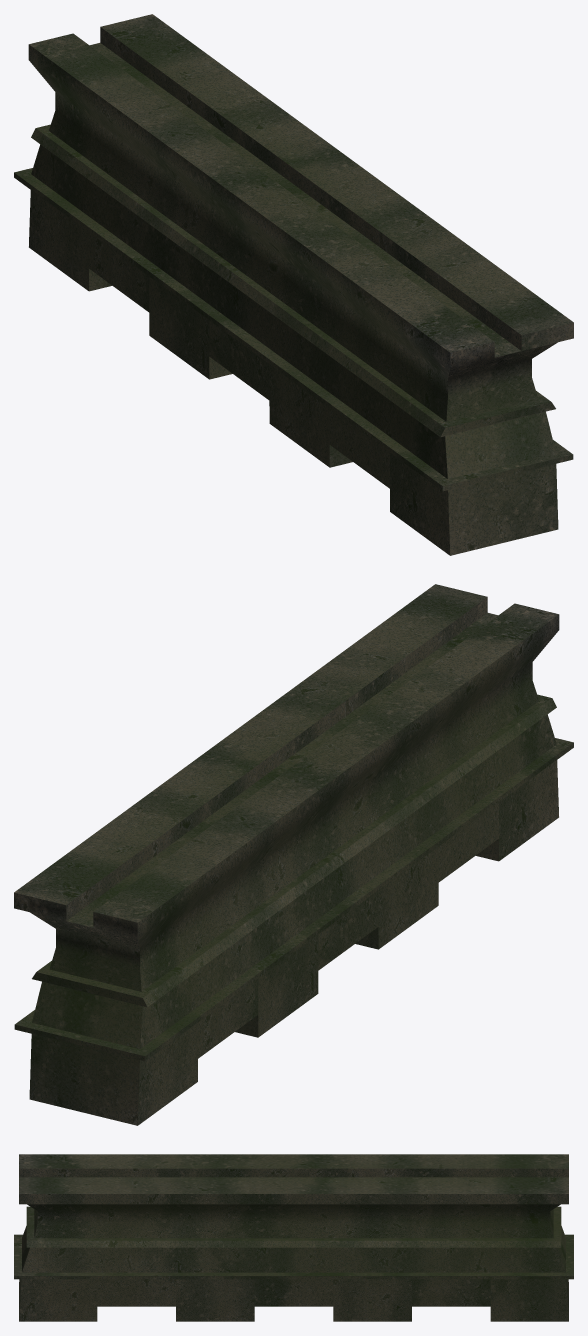
Rendered from single truss.fbx.
3 views of the same model, one above another, from view 1: azimuth 30°, elevation 25°; view 2: azimuth 150°, elevation 25°; view 3: azimuth 270°, elevation 25° (orthographic). The views are drawn at different scales.
Parts seen in each view (by area): view 1: pCube5; view 2: pCube5; view 3: pCube5.
Part boxes in pixels (x1,y1,x2,y2): pCube5: [14, 14, 573, 555]; pCube5: [14, 584, 573, 1125]; pCube5: [14, 1154, 573, 1321].
Bounding box in the file's own units: 92.17 × 133 × 507.
